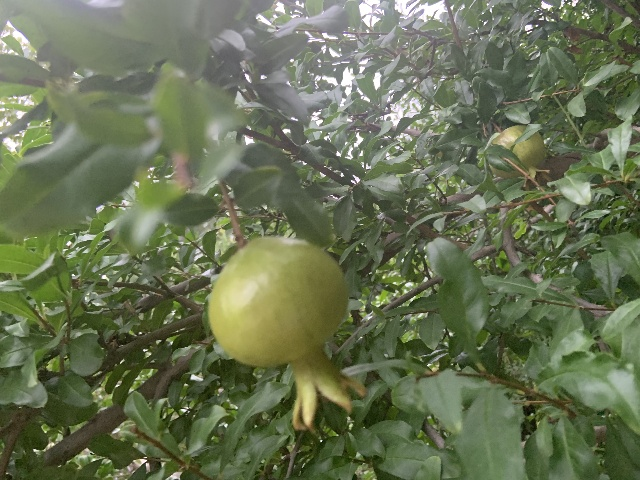mid-growth: (206, 236, 366, 431), (490, 124, 552, 189)
